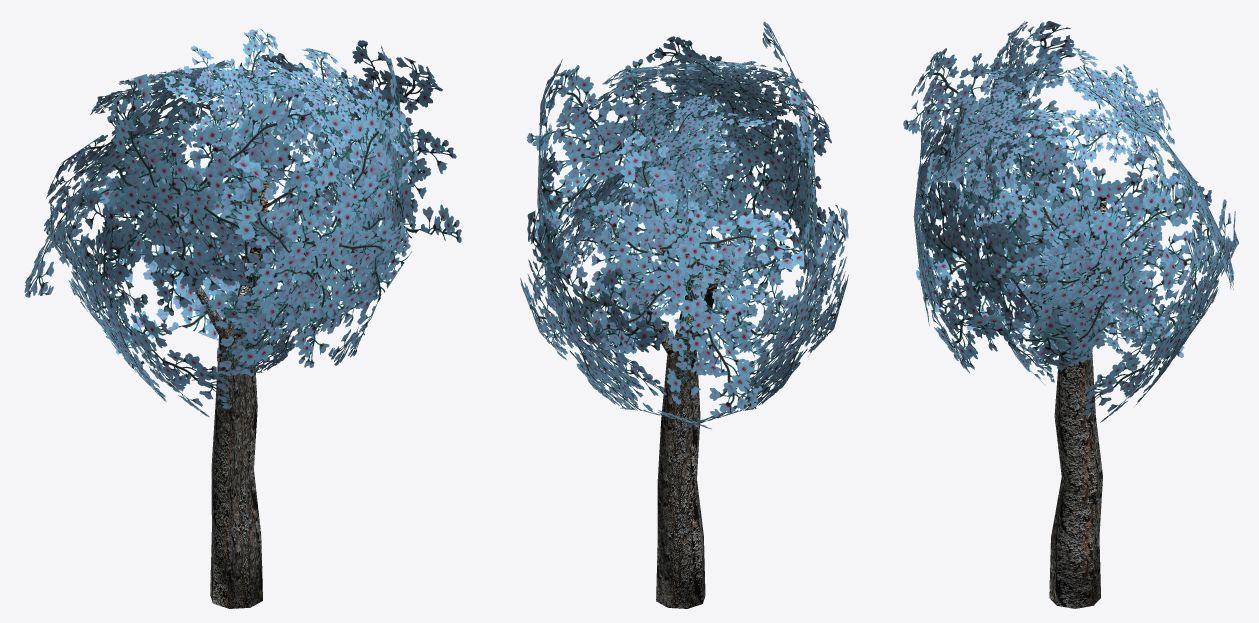
Rendered from arbol azul claro.fbx.
3 renders of one model, left to right at view 1: azimuth 30°, elevation 25°; view 2: azimuth 150°, elevation 25°; view 3: azimuth 270°, elevation 25°, orthographic. The views are drawn at different scales.
Visible parts, largest first — view 1: Plane002, Plane005, Cylinder001, Plane011, Plane009, Plane010, Plane006, Plane004, Plane013, Plane003, Plane012, Plane008 (+1 smaller); view 2: Plane010, Cylinder001, Plane003, Plane013, Plane002, Plane011, Plane012, Plane006, Plane005, Plane008, Plane009, Plane007 (+1 smaller); view 3: Plane009, Plane003, Cylinder001, Plane005, Plane004, Plane013, Plane012, Plane011, Plane007, Plane002, Plane006, Plane010 (+1 smaller).
Boxes of the visible parts, x1,y1,x2,y2 form: Plane002: [199, 91, 417, 376]; Plane005: [76, 74, 321, 338]; Cylinder001: [169, 180, 269, 608]; Plane011: [46, 186, 230, 417]; Plane009: [238, 40, 461, 270]; Plane010: [24, 60, 264, 297]; Plane006: [163, 29, 320, 195]; Plane004: [241, 48, 413, 177]; Plane013: [80, 110, 387, 354]; Plane003: [313, 45, 403, 365]; Plane012: [90, 65, 303, 124]; Plane008: [191, 235, 339, 380]; Plane010: [536, 131, 804, 417]; Cylinder001: [614, 224, 723, 608]; Plane003: [527, 56, 739, 296]; Plane013: [520, 207, 711, 429]; Plane002: [645, 36, 846, 295]; Plane011: [672, 205, 848, 432]; Plane012: [614, 93, 775, 227]; Plane006: [639, 57, 815, 161]; Plane005: [757, 21, 818, 308]; Plane008: [613, 210, 792, 362]; Plane009: [537, 59, 595, 349]; Plane007: [533, 155, 659, 296]; Plane009: [948, 161, 1200, 370]; Plane003: [919, 102, 1084, 370]; Cylinder001: [1027, 196, 1111, 608]; Plane005: [903, 21, 1103, 295]; Plane004: [924, 67, 1070, 226]; Plane013: [1083, 199, 1238, 422]; Plane012: [1057, 47, 1174, 194]; Plane011: [916, 131, 1211, 357]; Plane007: [987, 206, 1167, 354]; Plane002: [913, 90, 969, 373]; Plane006: [984, 21, 1067, 187]; Plane010: [1123, 106, 1233, 289].
Bounding box in the file's own units: 2.46 × 3.81 × 2.2.
Materials: 2 (2 with a texture image).
